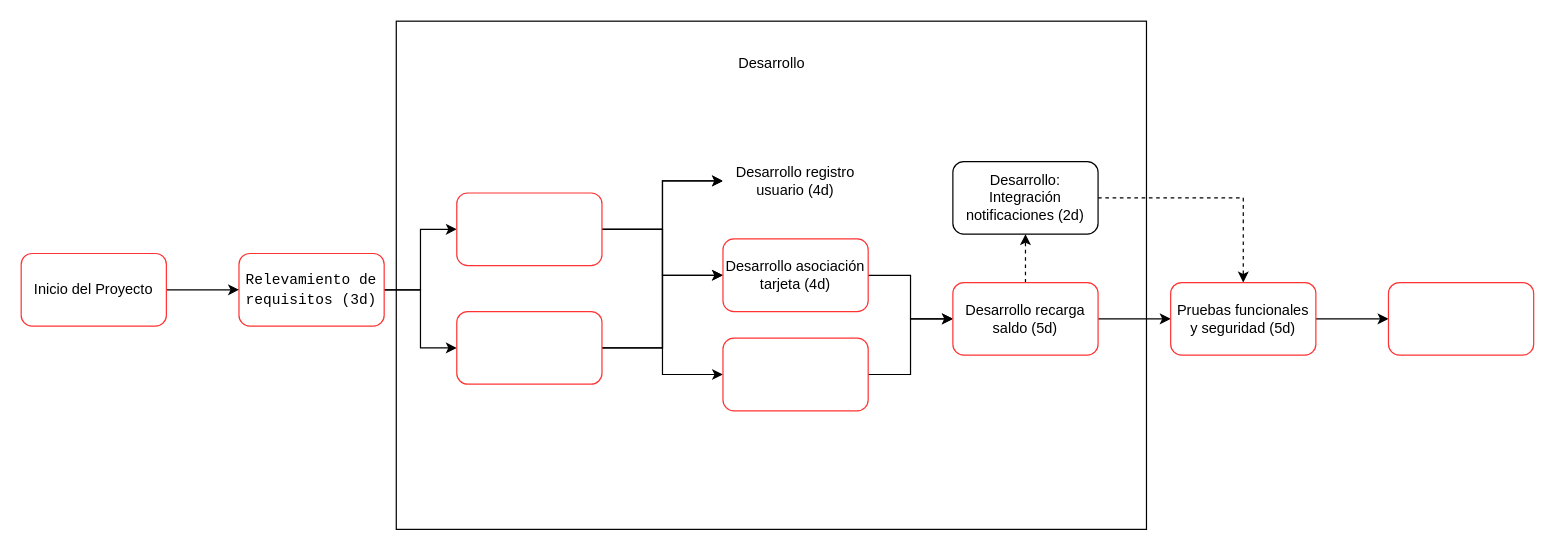
Some shapes in this 1555 by 551 pixel diagram are drawn without their labels. The shapes that lost their labels are listed below. From the top down, each one's centre as x and y in pixels, then its label:
point 529,229: Diseño de arquitectura del sistema (2d)
point 1460,318: Despliegue en producción (1d)
point 529,347: Diseño UI/UX (3d)
point 795,374: Desarrollo saldo y movimientos (4d)
